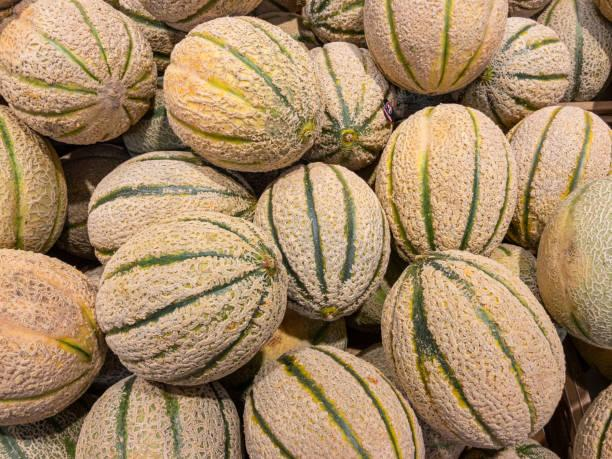cantaloupe: (0, 0, 610, 458), (380, 247, 567, 449), (93, 209, 287, 385), (162, 14, 324, 172), (373, 101, 518, 262), (0, 0, 157, 145), (252, 160, 391, 321), (241, 343, 425, 458), (361, 0, 509, 96)
